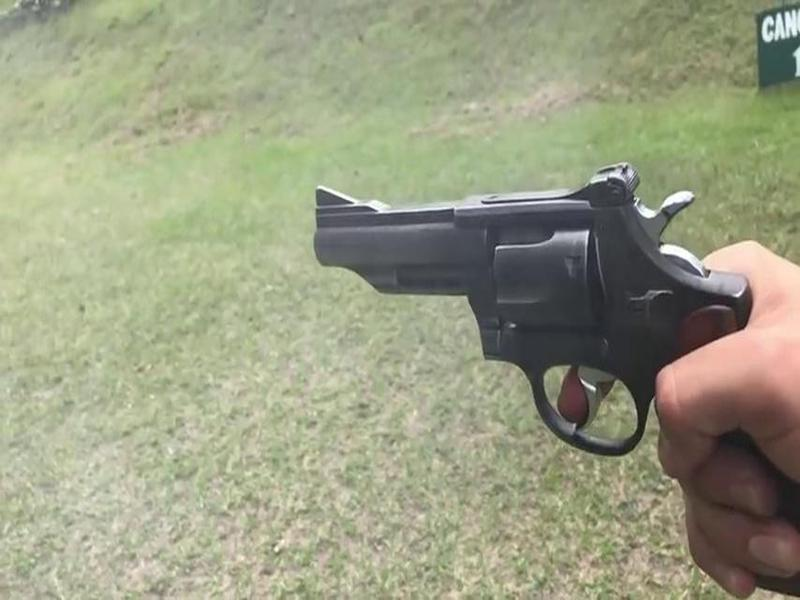Revolver: (293, 128, 782, 511)
